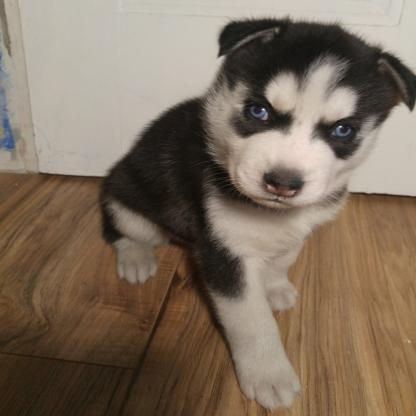dog: (97, 17, 415, 416)
